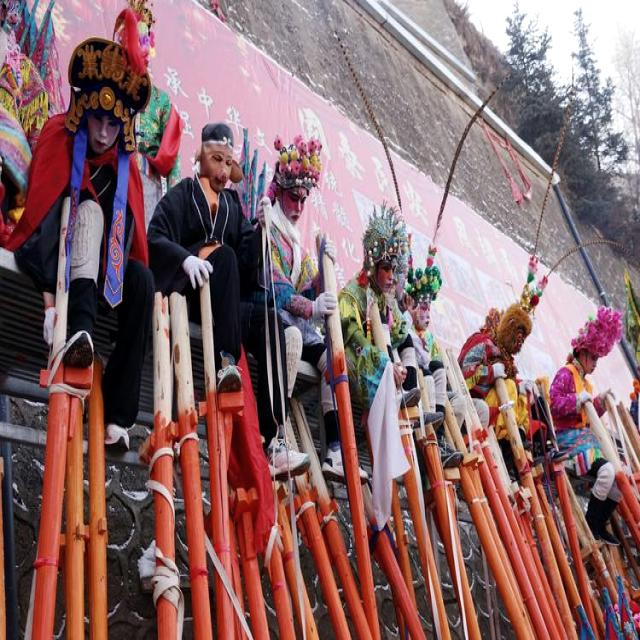Reeves-s Pheasant: (335, 32, 401, 211), (540, 110, 572, 215), (545, 246, 579, 276), (531, 219, 542, 259)
